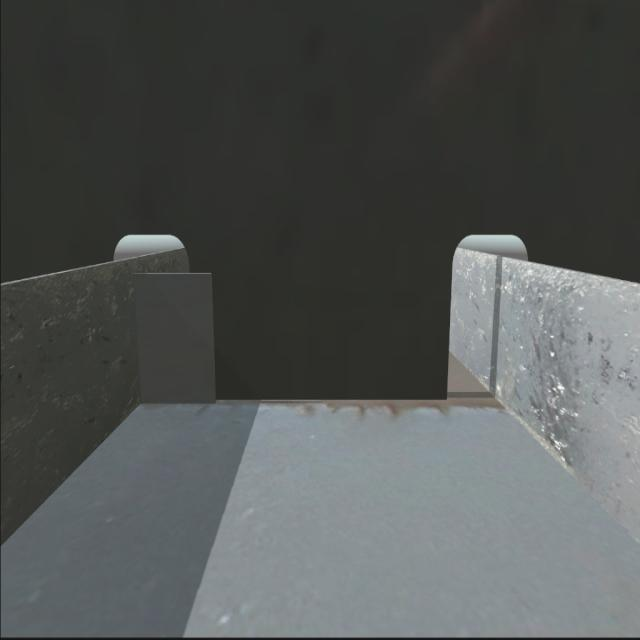fillet_yong_jeop_jang: (133, 393, 454, 406)
longi_yong_jeop_jang: (127, 267, 142, 406)
plate_CP01: (134, 273, 217, 409)
